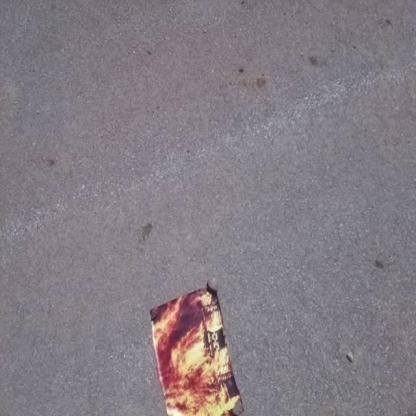fire-poster: (148, 280, 244, 415)
